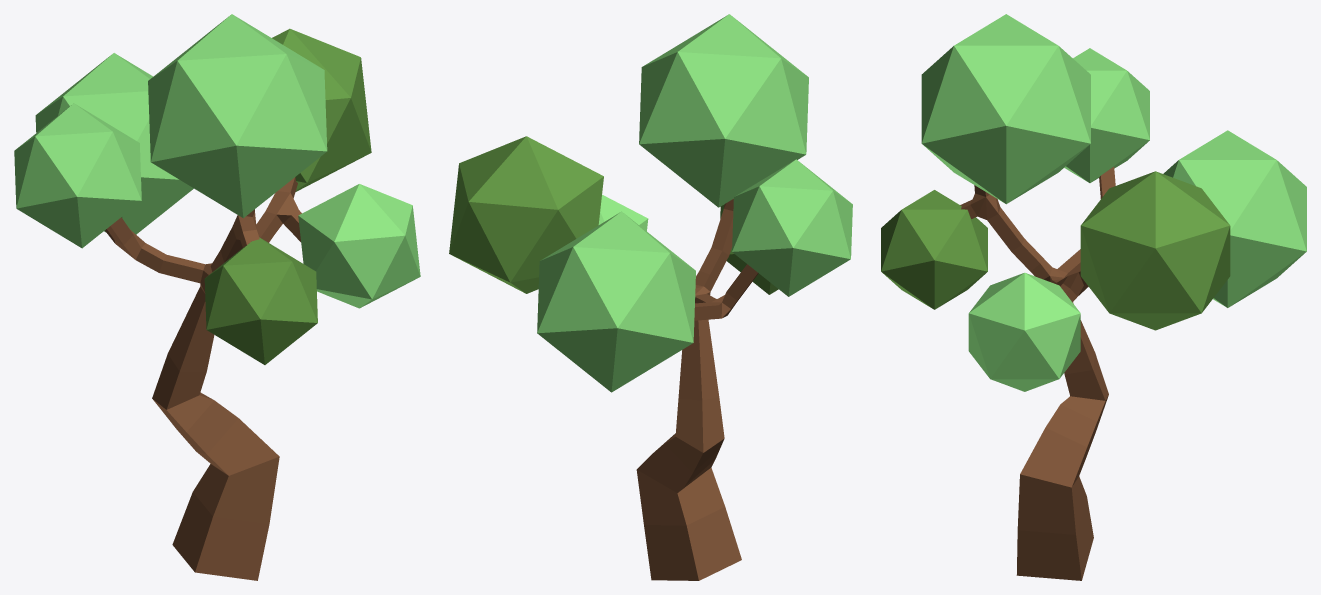
File: Tree.fbx
3 views of the same model, side by side, from view 1: azimuth 30°, elevation 25°; view 2: azimuth 150°, elevation 25°; view 3: azimuth 270°, elevation 25° (orthographic). The views are drawn at different scales.
Parts seen in each view (by area): view 1: Tree; view 2: Tree; view 3: Tree.
Boxes of the visible parts, x1,y1,x2,y2 form: Tree: [14, 14, 420, 580]; Tree: [449, 14, 852, 580]; Tree: [881, 14, 1306, 580].
Size of the model in its own units: 758 by 1055 by 771.
